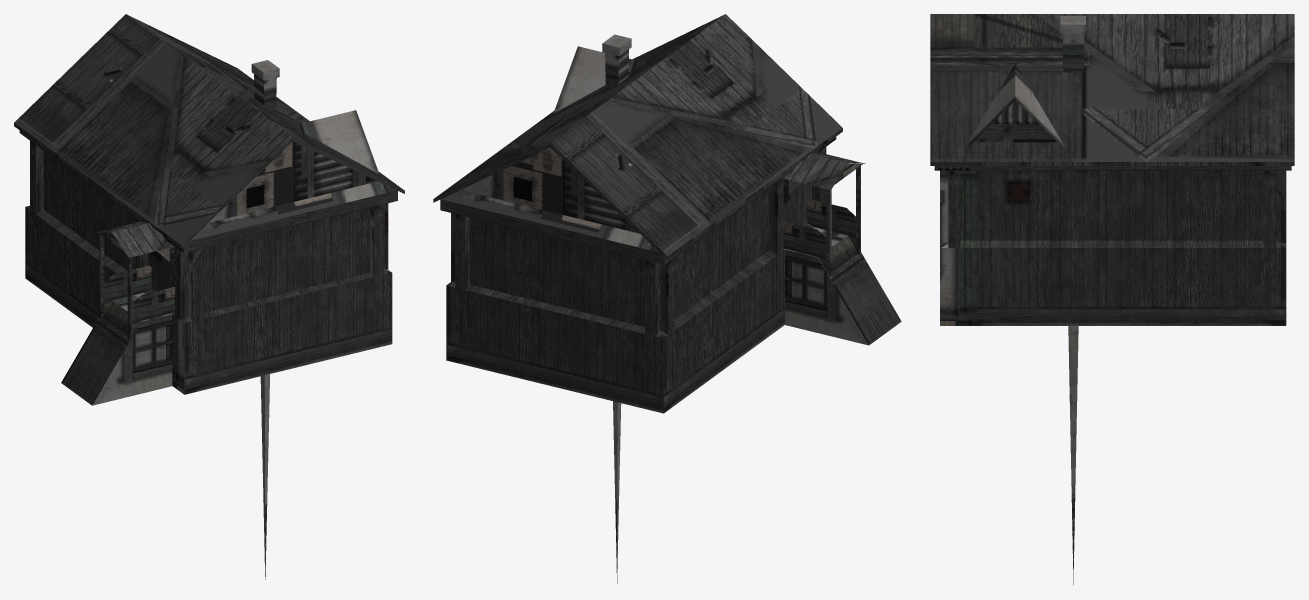
The model's file is RurHut_03.FBX.
The picture shows the model from 3 angles, left to right: view 1: azimuth 30°, elevation 25°; view 2: azimuth 150°, elevation 25°; view 3: azimuth 270°, elevation 25°; orthographic projection. The views are drawn at different scales.
Visible parts, largest first — view 1: Hut; view 2: Hut; view 3: Hut.
Part boxes in pixels (x1=…): Hut: x1=14, y1=14, x2=404, y2=579; Hut: x1=433, y1=14, x2=901, y2=583; Hut: x1=930, y1=14, x2=1294, y2=584.
Bounding box in the file's own units: 10.48 × 17.58 × 10.26.
